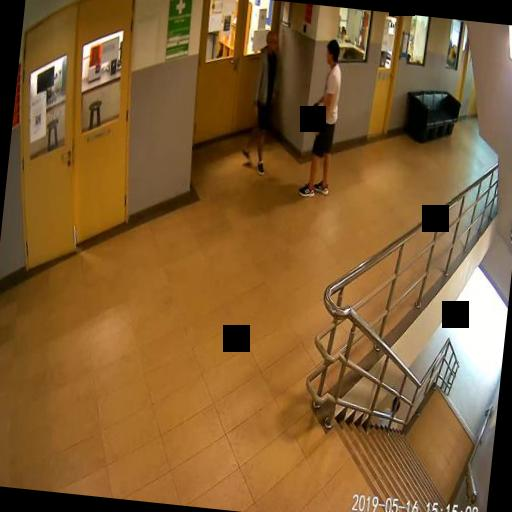Handgun: (305, 98, 319, 116)
